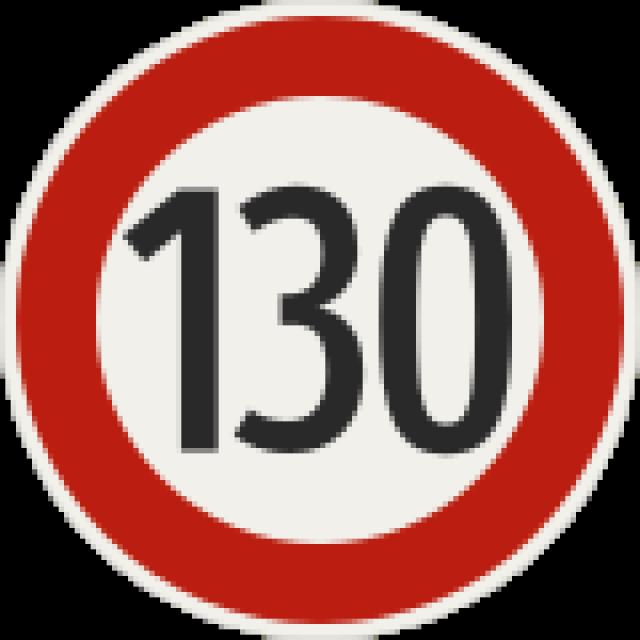Speed Limit: (111, 172, 537, 488)
